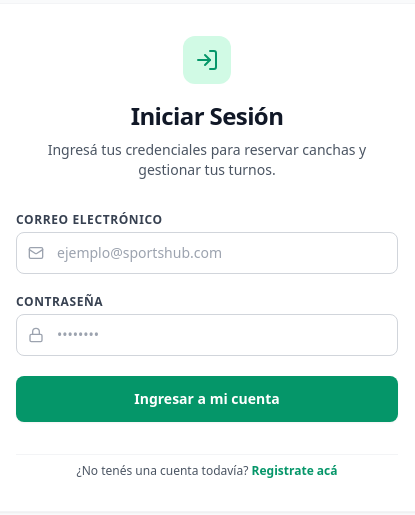
Test: LoginPage › muestra validaciones de campos si se envía el formulario vacío
Click the button "Ingresar a mi cuenta" at [207, 398], box [16,376,398,422]
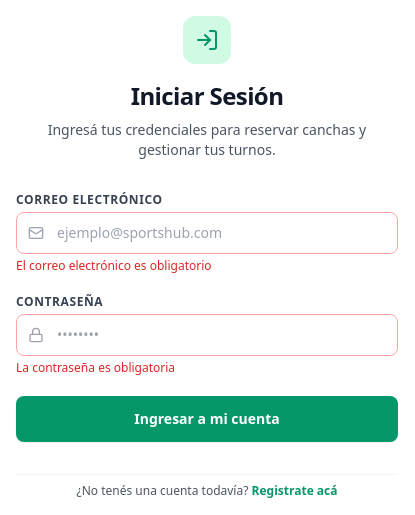
Check: the text "El correo electrónico es obligatorio" is shown, box [16,256,212,274]
Check: the text "La contraseña es obligatoria" is shown, box [16,358,175,376]
